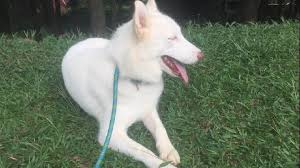Siberian Husky: (50, 1, 200, 168)
